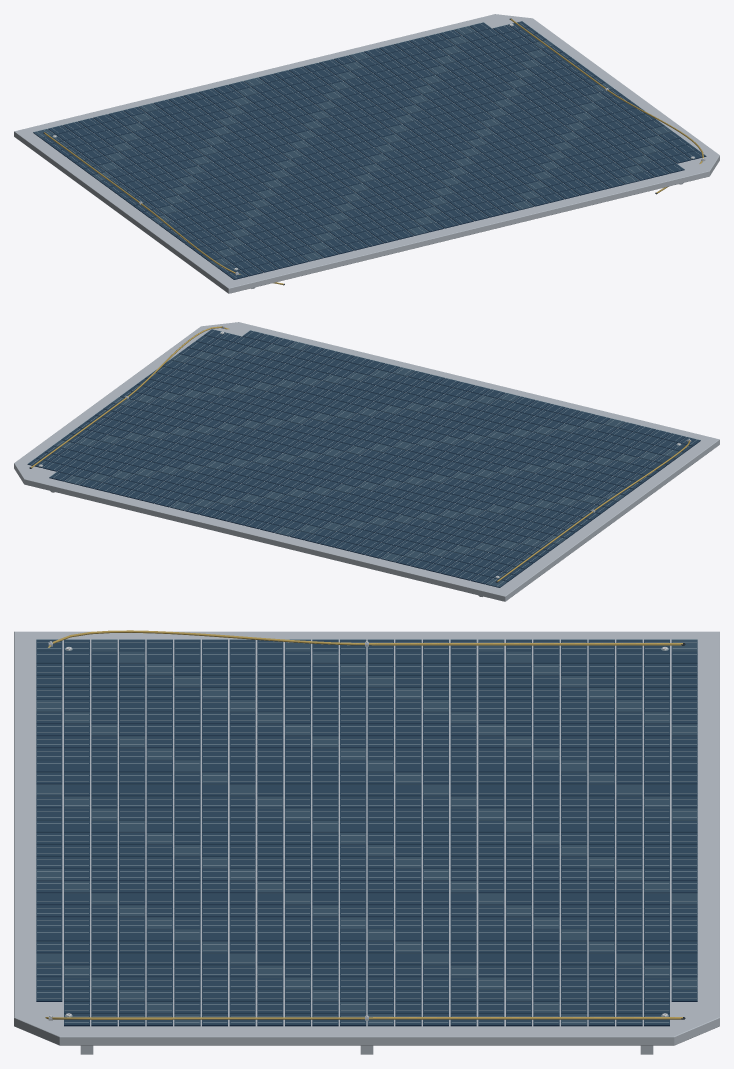
The model's file is surveyor-solar.glb.
The picture shows the model from 3 angles, top to bottom: view 1: azimuth 30°, elevation 25°; view 2: azimuth 150°, elevation 25°; view 3: azimuth 270°, elevation 25°; orthographic projection. The views are drawn at different scales.
Parts seen in each view (by area): view 1: SOLAR_CELL_COVERGLASS_Optical_glass, SOLAR_CELLS_Solar_semiconductor, SOLAR_BACK_FRAME_Machined_aluminium, SOLAR_CELLS_Solar_semiconductor_alternate, SOLAR_CELLS_Machined_edge, SOLAR_BUS_0.49_Plated_connector_contacts, SOLAR_BUS_-0.49_Plated_connector_contacts; view 2: SOLAR_CELL_COVERGLASS_Optical_glass, SOLAR_CELLS_Solar_semiconductor, SOLAR_BACK_FRAME_Machined_aluminium, SOLAR_CELLS_Solar_semiconductor_alternate, SOLAR_CELLS_Machined_edge, SOLAR_BUS_0.49_Plated_connector_contacts, SOLAR_BUS_-0.49_Plated_connector_contacts; view 3: SOLAR_CELL_COVERGLASS_Optical_glass, SOLAR_CELLS_Solar_semiconductor, SOLAR_BACK_FRAME_Machined_aluminium, SOLAR_CELLS_Solar_semiconductor_alternate, SOLAR_CELLS_Machined_edge, SOLAR_BUS_-0.49_Plated_connector_contacts, SOLAR_BUS_0.49_Plated_connector_contacts.
Part boxes in pixels (box(x1,y1,x2,y2)): SOLAR_CELL_COVERGLASS_Optical_glass: box(33, 21, 705, 278); SOLAR_CELLS_Solar_semiconductor: box(41, 21, 706, 279); SOLAR_BACK_FRAME_Machined_aluminium: box(14, 14, 719, 293); SOLAR_CELLS_Solar_semiconductor_alternate: box(33, 26, 672, 267); SOLAR_CELLS_Machined_edge: box(37, 22, 700, 277); SOLAR_BUS_0.49_Plated_connector_contacts: box(510, 18, 703, 193); SOLAR_BUS_-0.49_Plated_connector_contacts: box(44, 132, 283, 284); SOLAR_CELL_COVERGLASS_Optical_glass: box(28, 329, 700, 586); SOLAR_CELLS_Solar_semiconductor: box(27, 329, 700, 584); SOLAR_BACK_FRAME_Machined_aluminium: box(14, 322, 719, 601); SOLAR_CELLS_Solar_semiconductor_alternate: box(53, 341, 683, 587); SOLAR_CELLS_Machined_edge: box(31, 330, 696, 585); SOLAR_BUS_0.49_Plated_connector_contacts: box(31, 326, 229, 467); SOLAR_BUS_-0.49_Plated_connector_contacts: box(497, 440, 690, 581); SOLAR_CELL_COVERGLASS_Optical_glass: box(36, 639, 697, 1024); SOLAR_CELLS_Solar_semiconductor: box(36, 639, 697, 1026); SOLAR_BACK_FRAME_Machined_aluminium: box(14, 631, 719, 1054); SOLAR_CELLS_Solar_semiconductor_alternate: box(36, 639, 697, 1026); SOLAR_CELLS_Machined_edge: box(37, 642, 696, 1022); SOLAR_BUS_-0.49_Plated_connector_contacts: box(48, 630, 682, 647); SOLAR_BUS_0.49_Plated_connector_contacts: box(45, 1017, 682, 1019).
Bounding box in the file's own units: 1.06 × 0.0543 × 0.7816.
